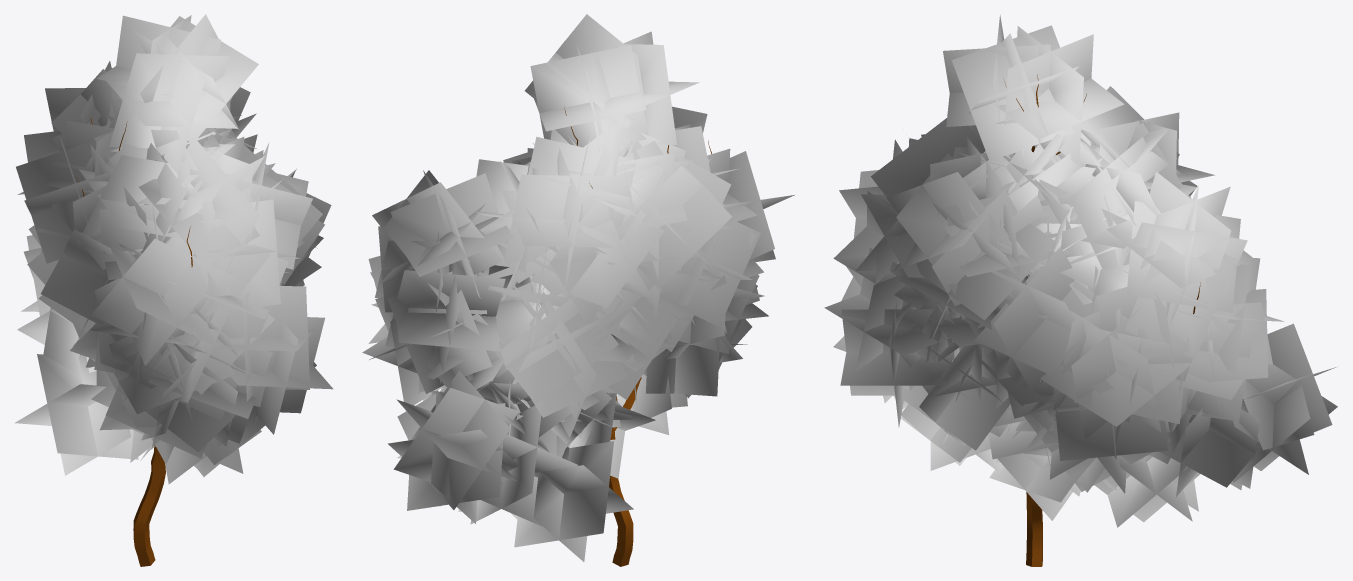
File: tree1_LOD1.fbx
3 renders of one model, left to right at view 1: azimuth 30°, elevation 25°; view 2: azimuth 150°, elevation 25°; view 3: azimuth 270°, elevation 25°, orthographic. The views are drawn at different scales.
Visible parts, largest first — view 1: transform1; view 2: transform1; view 3: transform1.
Part boxes in pixels (x1=…): transform1: x1=15, y1=14, x2=333, y2=566; transform1: x1=362, y1=14, x2=794, y2=566; transform1: x1=824, y1=14, x2=1337, y2=566.
Bounding box in the file's own units: 484 × 747 × 625.
